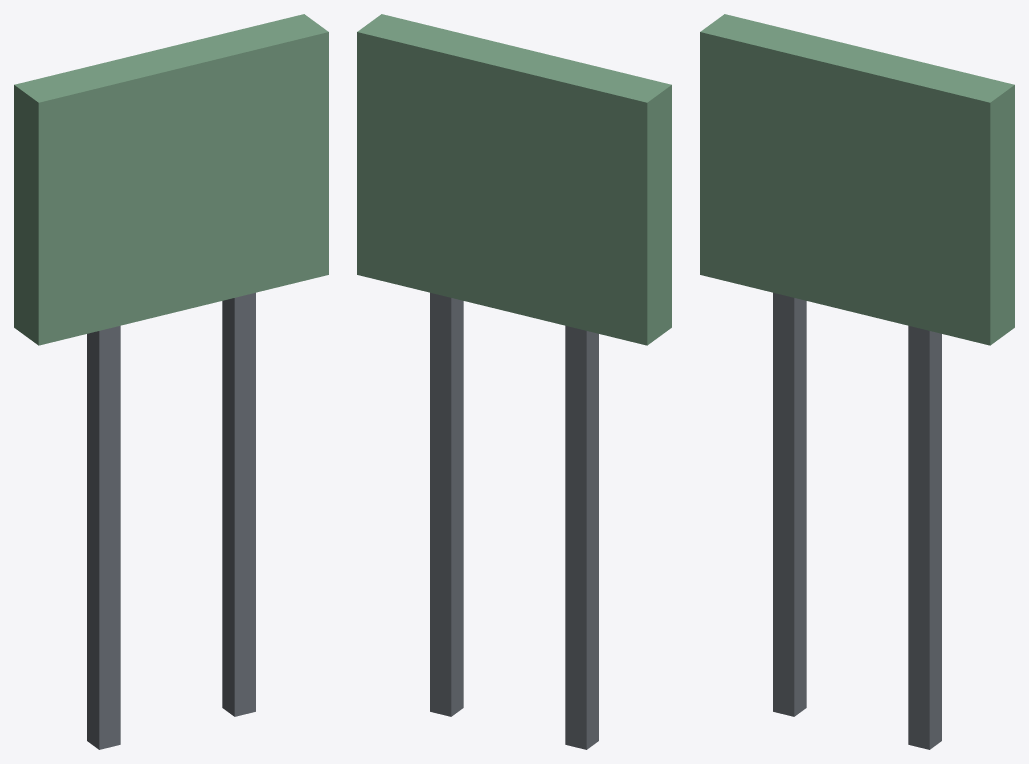
The model's file is site_sign_far.fbx.
The picture shows the model from 3 angles, left to right: view 1: azimuth 30°, elevation 25°; view 2: azimuth 150°, elevation 25°; view 3: azimuth 330°, elevation 25°; orthographic projection.
Parts seen in each view (by area): view 1: a2020/0/site_sign_far; view 2: a2020/0/site_sign_far; view 3: a2020/0/site_sign_far.
Part boxes in pixels (bbox=[...]): a2020/0/site_sign_far: bbox=[14, 14, 328, 749]; a2020/0/site_sign_far: bbox=[357, 14, 671, 749]; a2020/0/site_sign_far: bbox=[700, 14, 1014, 749].
Bounding box in the file's own units: 3 × 6.6 × 0.44.
